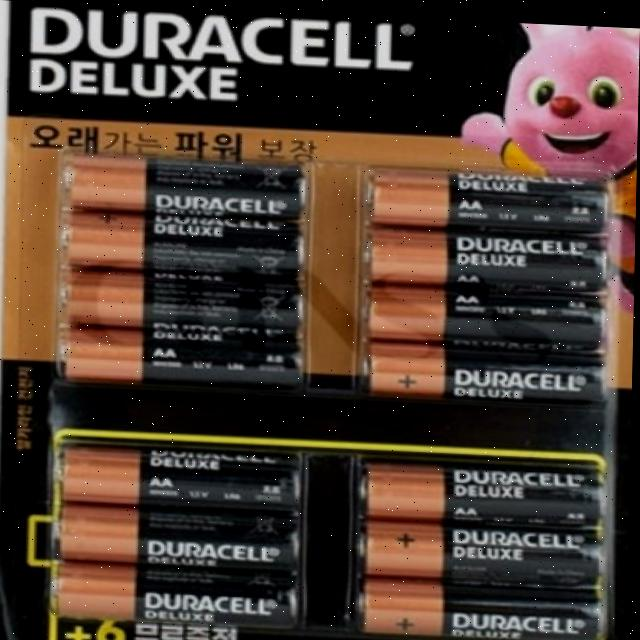battery: (47, 144, 317, 391), (357, 162, 616, 409), (348, 452, 601, 640), (56, 439, 303, 627)
